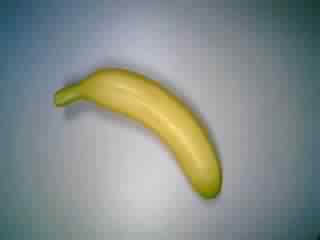banana: (48, 62, 231, 203)
